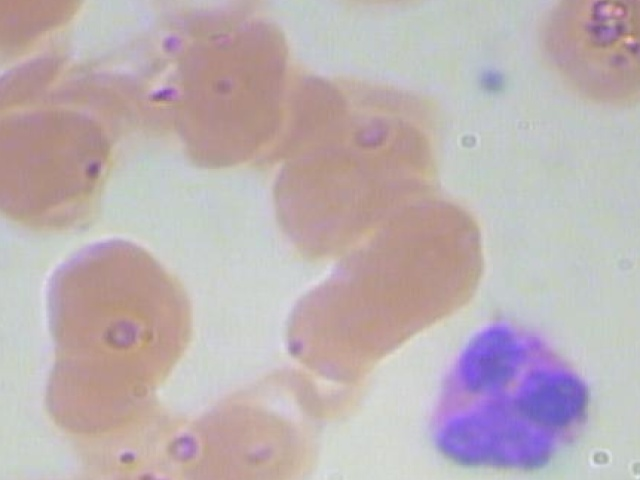Platelets: (466, 56, 522, 103)
RBC: (28, 235, 185, 358), (28, 308, 185, 431), (140, 44, 292, 171), (248, 135, 404, 258), (0, 110, 122, 245), (180, 382, 332, 480), (527, 0, 640, 116), (128, 0, 286, 40), (0, 0, 107, 50)
WBC: (395, 314, 640, 480)
